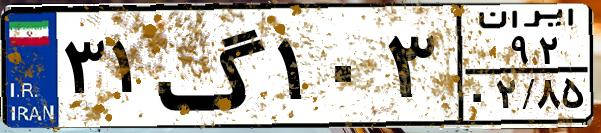0: (330, 28, 385, 110), (470, 70, 495, 125)
1: (270, 28, 330, 110), (110, 28, 156, 98)
2: (537, 27, 568, 80), (495, 70, 520, 125)
3: (385, 28, 445, 110), (57, 26, 110, 100)
5: (560, 70, 590, 125)
8: (535, 70, 560, 125)
9: (508, 27, 537, 80)
گ: (156, 12, 270, 120)
